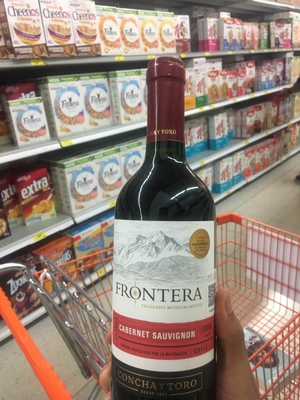frontera cabernet sauvignon: (111, 58, 224, 400)
